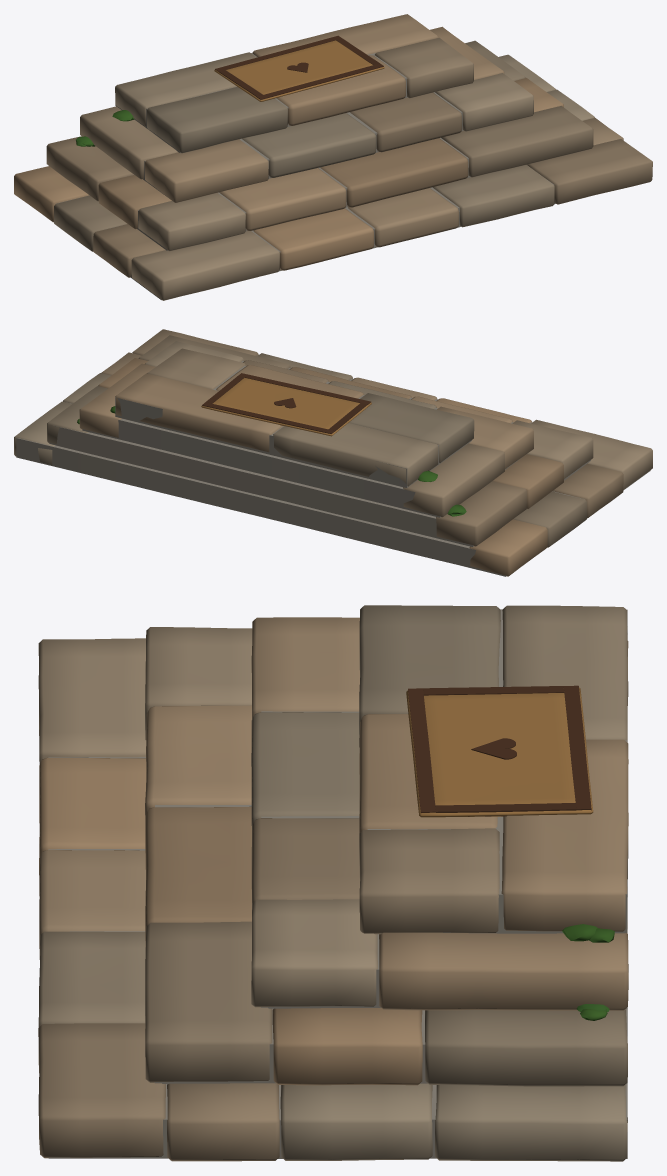
Rendered from entrance_steps.glb.
3 renders of one model, top to bottom at view 1: azimuth 30°, elevation 25°; view 2: azimuth 150°, elevation 25°; view 3: azimuth 270°, elevation 25°, orthographic. The views are drawn at different scales.
Parts seen in each view (by area): view 1: Sammel Stein, Sammel Stoff; view 2: Sammel Stein, Sammel Stoff, Sammel Pflanze; view 3: Sammel Stein, Sammel Stoff, Sammel Pflanze.
Part boxes in pixels (box(x1,y1,x2,y2)): Sammel Stein: box(14, 14, 652, 300); Sammel Stoff: box(214, 35, 384, 101); Sammel Stein: box(14, 329, 652, 576); Sammel Stoff: box(201, 373, 371, 436); Sammel Pflanze: box(77, 406, 466, 516); Sammel Stein: box(38, 605, 628, 1161); Sammel Stoff: box(406, 685, 593, 817); Sammel Pflanze: box(562, 924, 614, 1020).
Size of the model in its own units: 3.02 by 0.5213 by 1.55.
